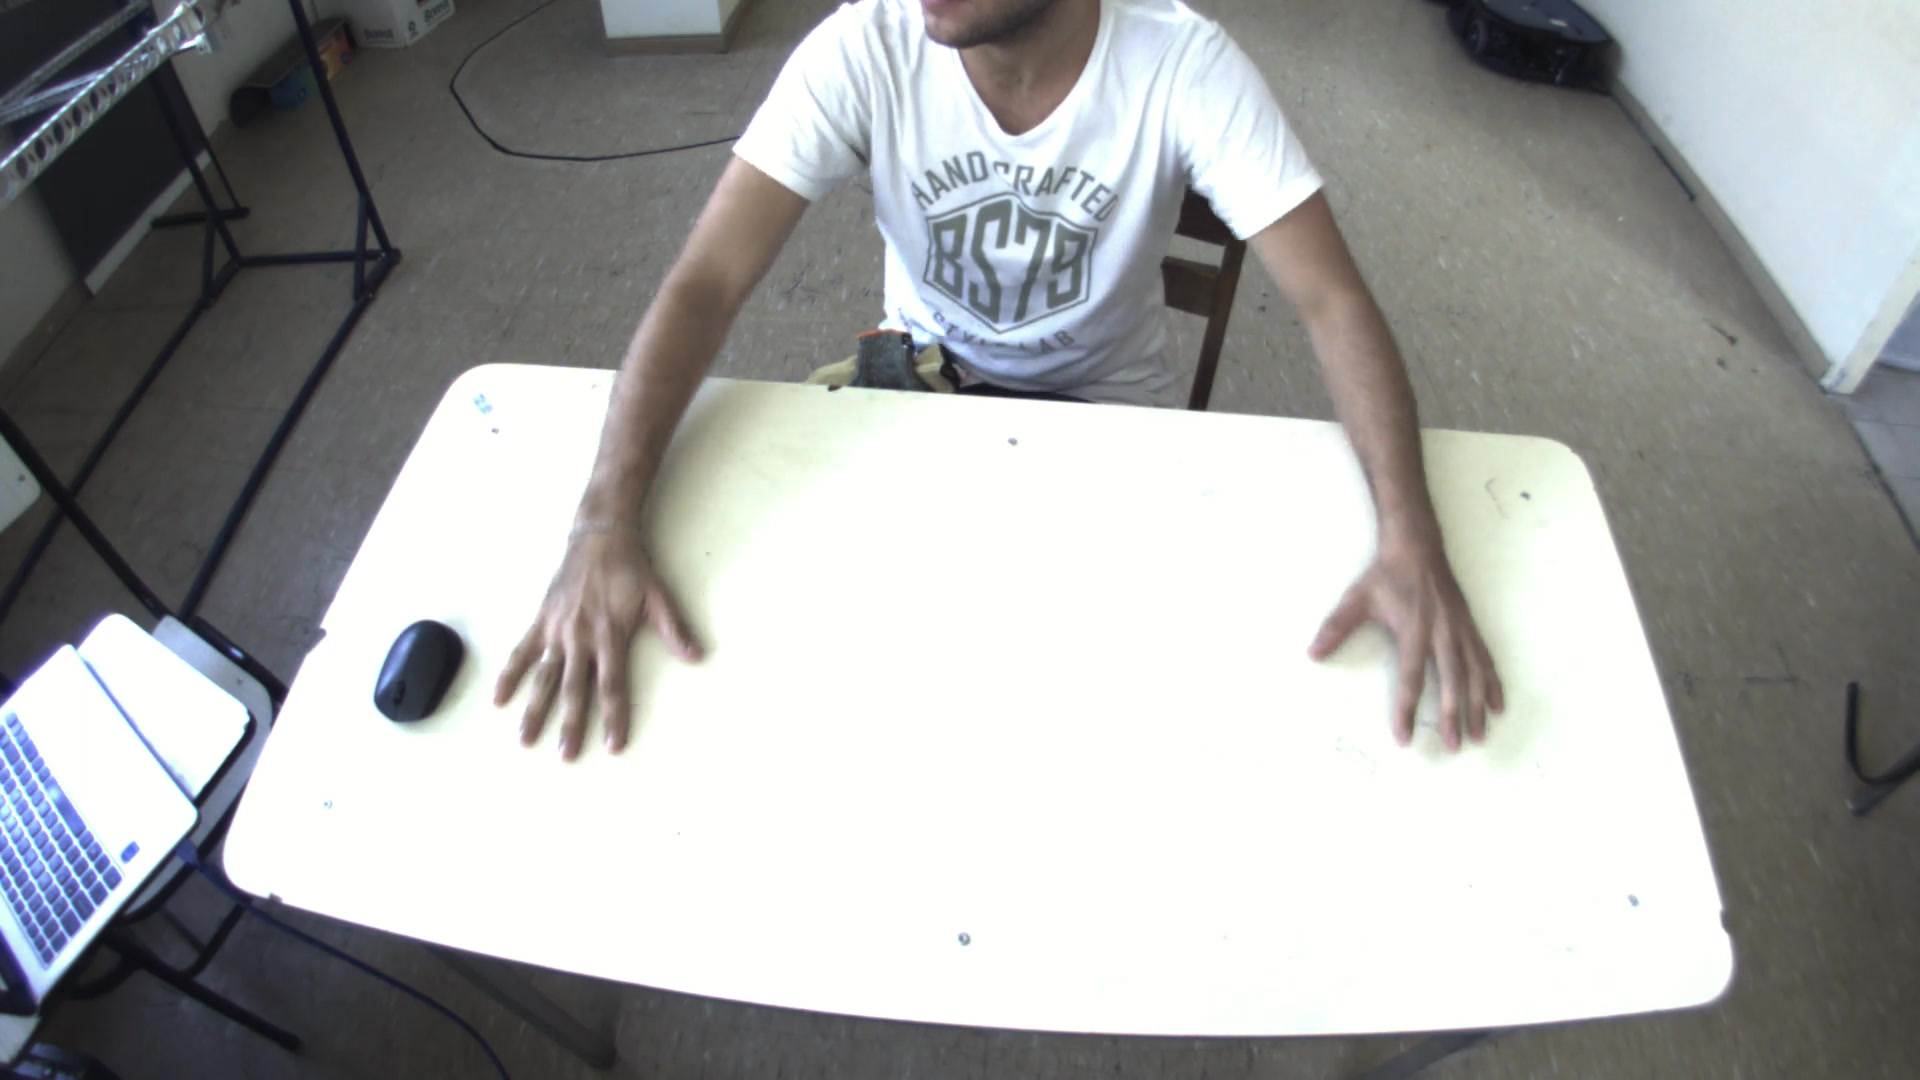hand: (480, 516, 705, 769), (1309, 527, 1528, 765)
